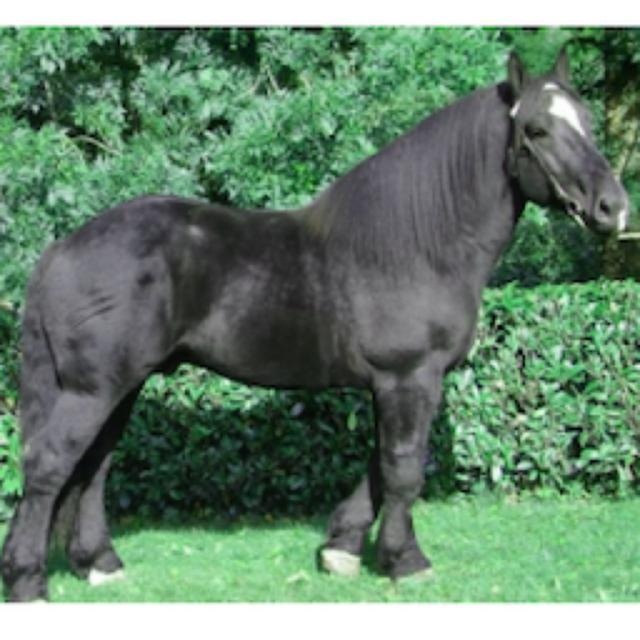Horse: (2, 40, 640, 598)
